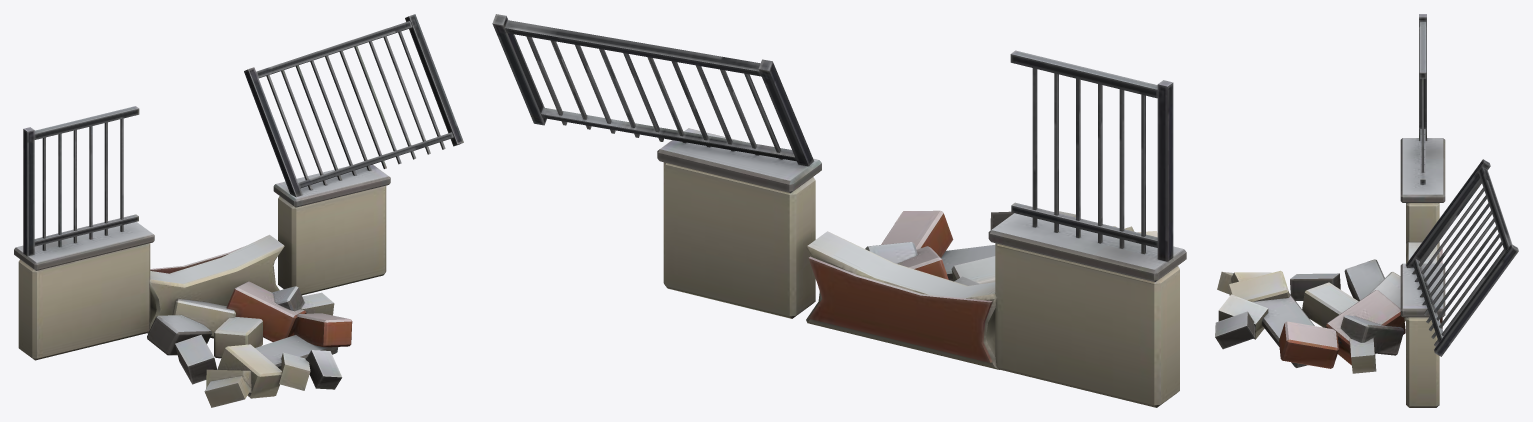
File: bld_wall_garden_broken.glb
The picture shows the model from 3 angles, left to right: view 1: azimuth 30°, elevation 25°; view 2: azimuth 150°, elevation 25°; view 3: azimuth 270°, elevation 25°; orthographic projection. The views are drawn at different scales.
Visible parts, largest first — view 1: bld_wall_garden_broken; view 2: bld_wall_garden_broken; view 3: bld_wall_garden_broken.
Boxes of the visible parts, <box> form: bld_wall_garden_broken: <box>14,14,463,407</box>; bld_wall_garden_broken: <box>492,14,1186,407</box>; bld_wall_garden_broken: <box>1215,14,1518,407</box>.
Size of the model in its own units: 3.78 by 1.96 by 2.25.
Materials: 1 (1 with a texture image).
